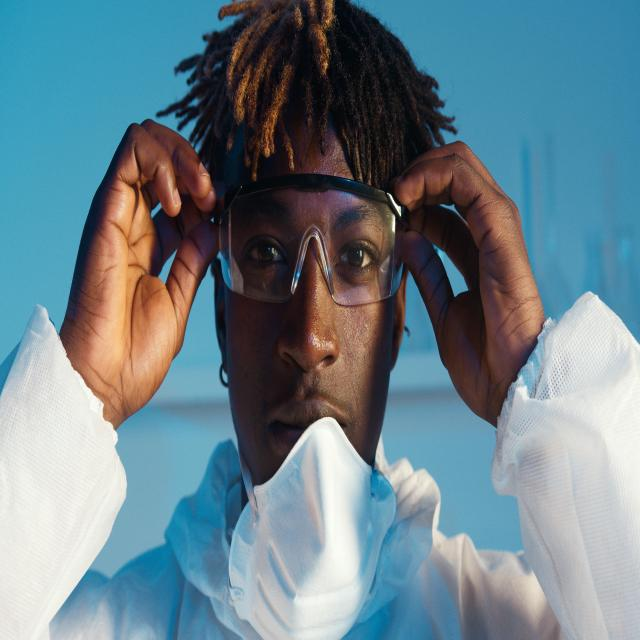Goggles: (218, 174, 414, 306)
Mask: (231, 416, 396, 640)
